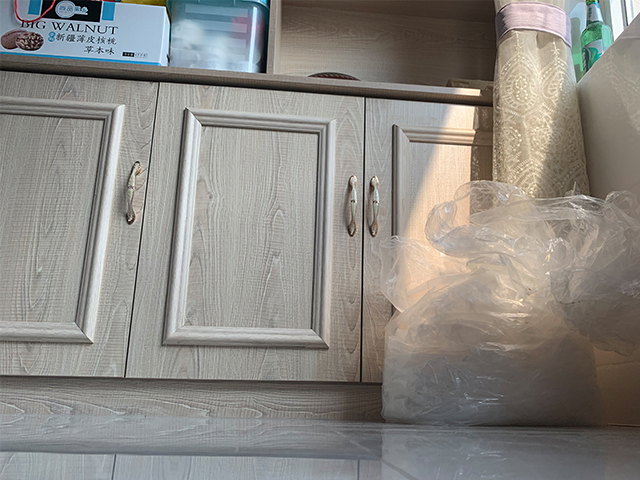cabinet: (1, 59, 480, 423)
